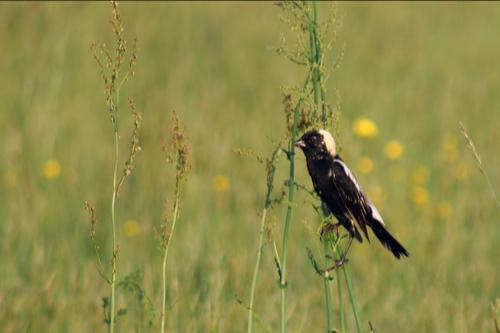bird: (286, 124, 411, 281)
